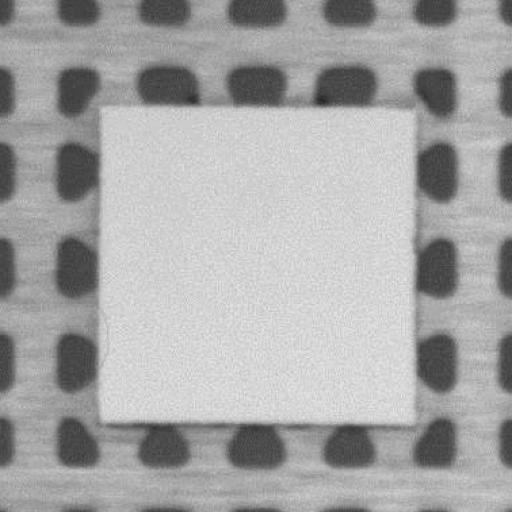DIE_CRACK: (99, 302, 108, 372)
